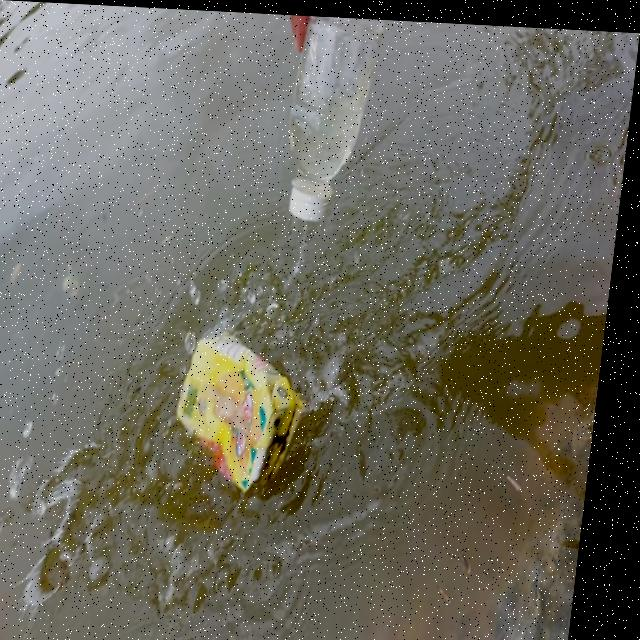paper: (167, 331, 336, 492)
waterbottle: (271, 12, 392, 224)
